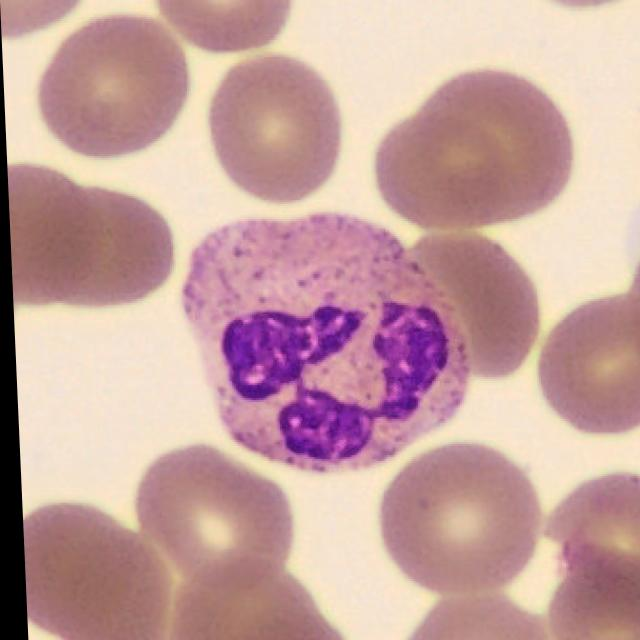Neutrofilo segmentado: (178, 213, 467, 476)
